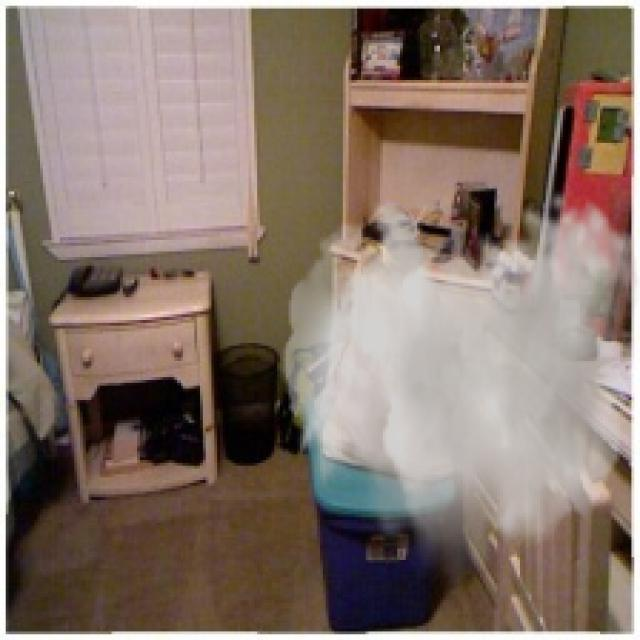Smoke: (282, 185, 638, 600)
